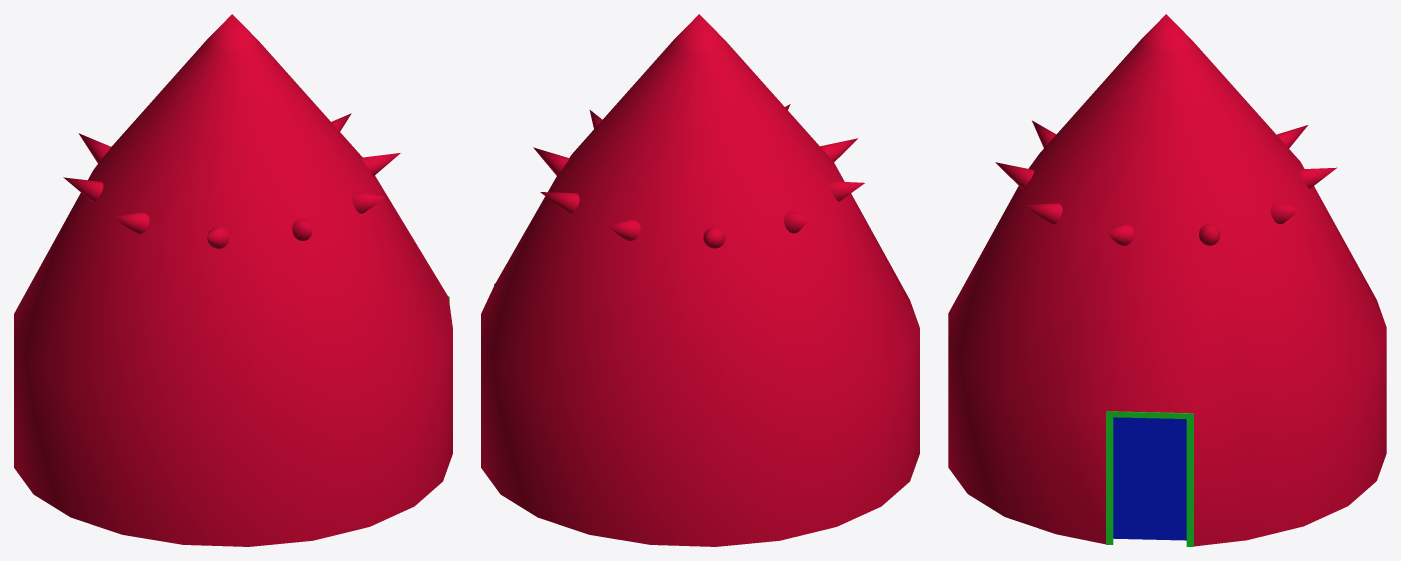
File: clay_house.fbx
3 renders of one model, left to right at view 1: azimuth 30°, elevation 25°; view 2: azimuth 150°, elevation 25°; view 3: azimuth 270°, elevation 25°, orthographic.
Visible parts, largest first — view 1: Cylinder; view 2: Cylinder; view 3: Cylinder.
Boxes of the visible parts, x1,y1,x2,y2 form: Cylinder: (14,14,452,546); Cylinder: (481,14,919,546); Cylinder: (948,14,1386,546).
Bounding box in the file's own units: 200 × 220 × 199.
